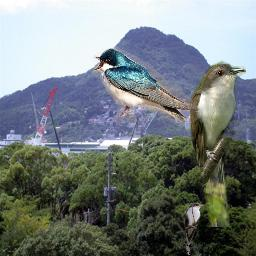Cuckoo: (190, 58, 246, 227), (184, 202, 204, 255)
Swallow: (92, 47, 201, 123)
